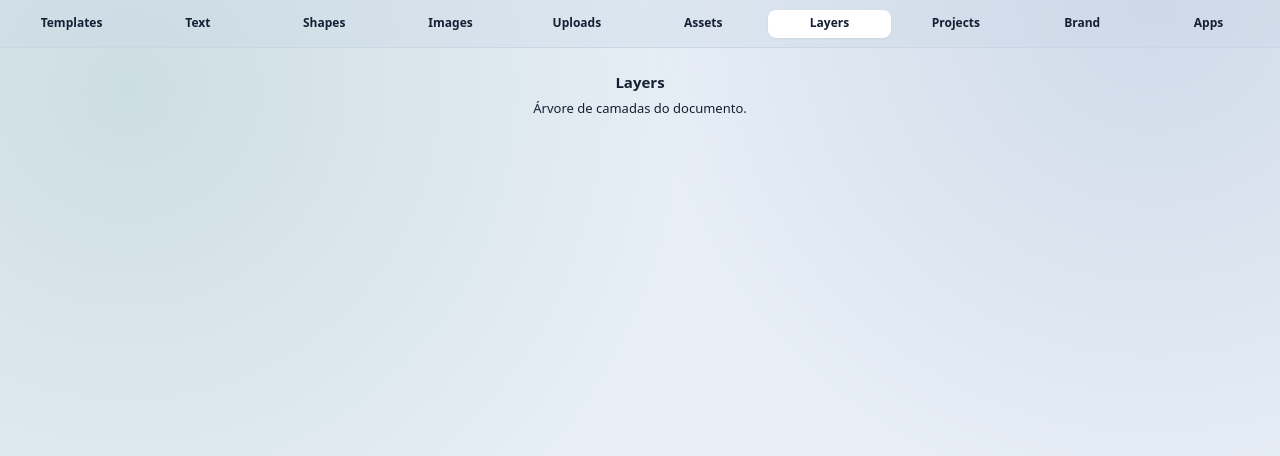
Test: Editor UX layout foundation › switches left sidebar tabs between placeholders
The image size is (1280, 456).
Click the tab with class "eko-tabs__tab" showing "Templates".
click(72, 24)  # box [10,10,134,38]
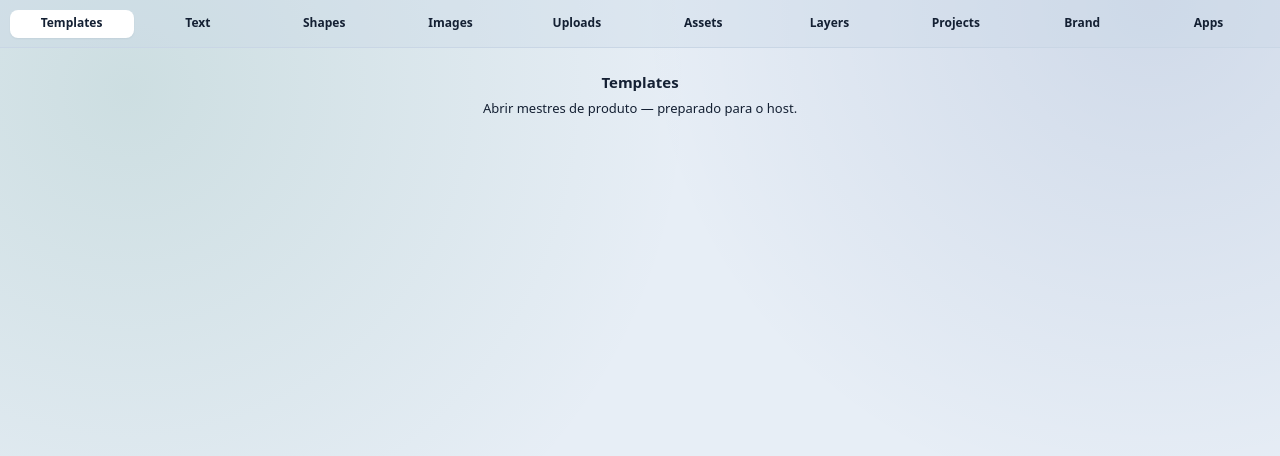
Click the tab with class "eko-tabs__tab" showing "Uploads".
click(577, 24)  # box [515,10,639,38]
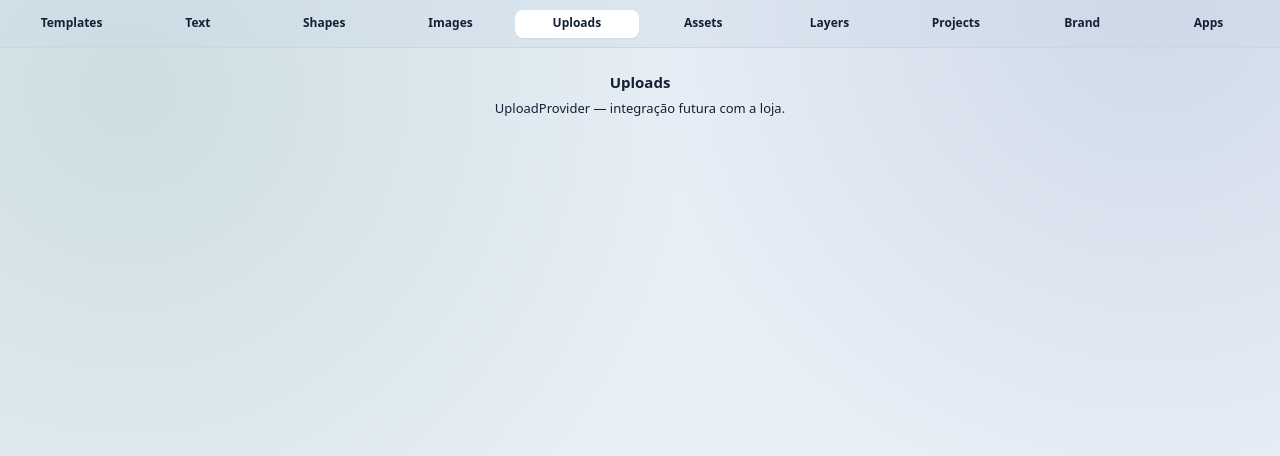
Expected: the text "UploadProvider" is shown, [495,99,785,117]
